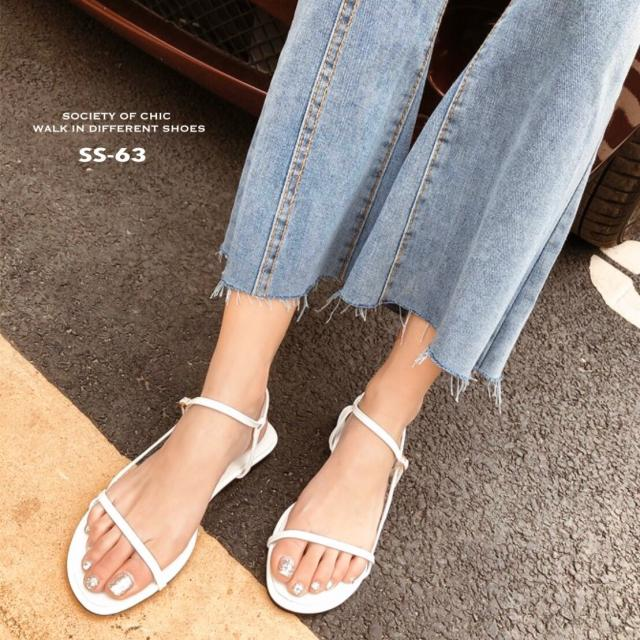Sandals: (57, 348, 442, 630)
